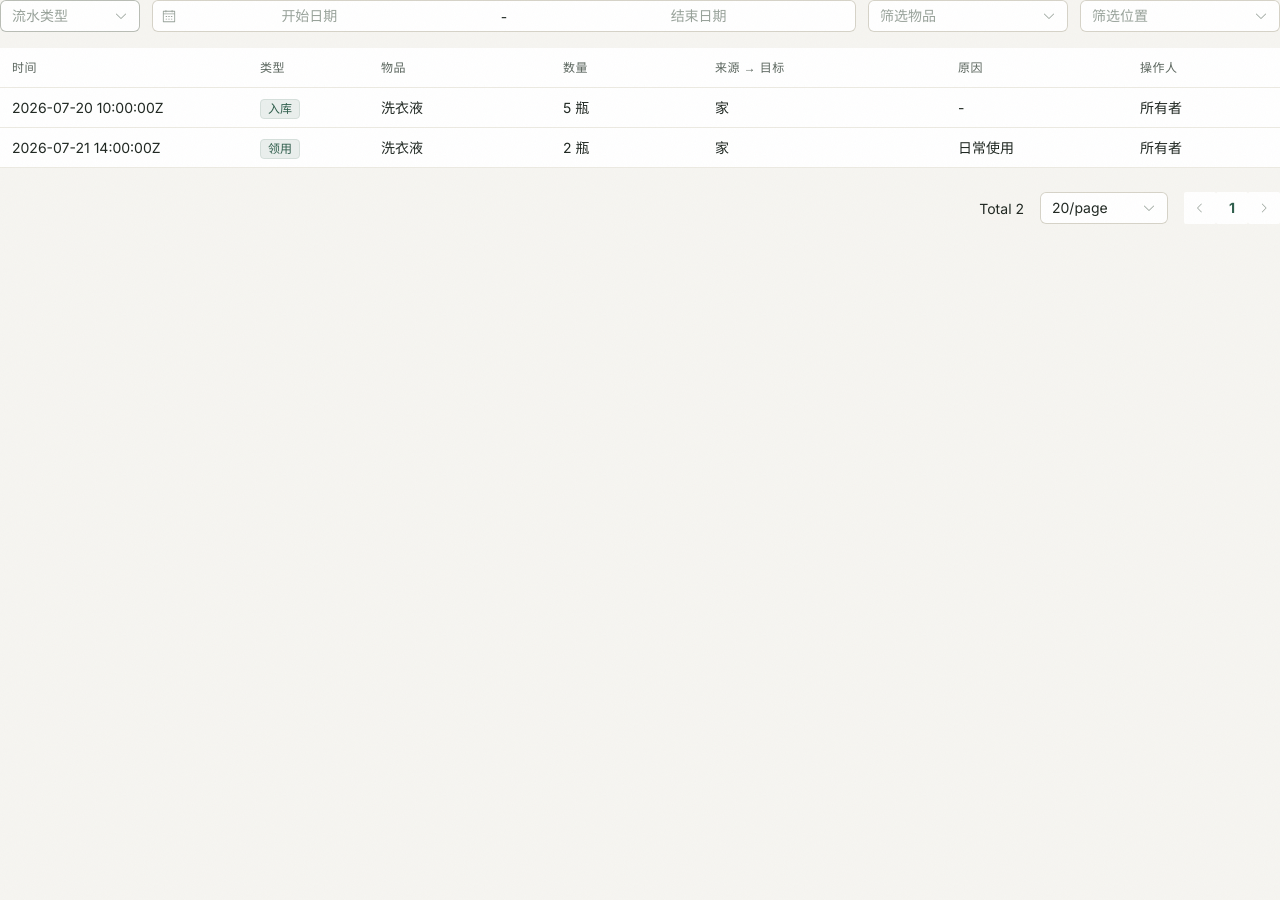
MovementsTab › opens MovementDetailDrawer when row is clicked
Step 1. Click the row "2026-07-20 10:00:00Z 入库 洗衣液 5 瓶 家 - 所有者" → click(640, 108), box 0,88 -> 1279,128
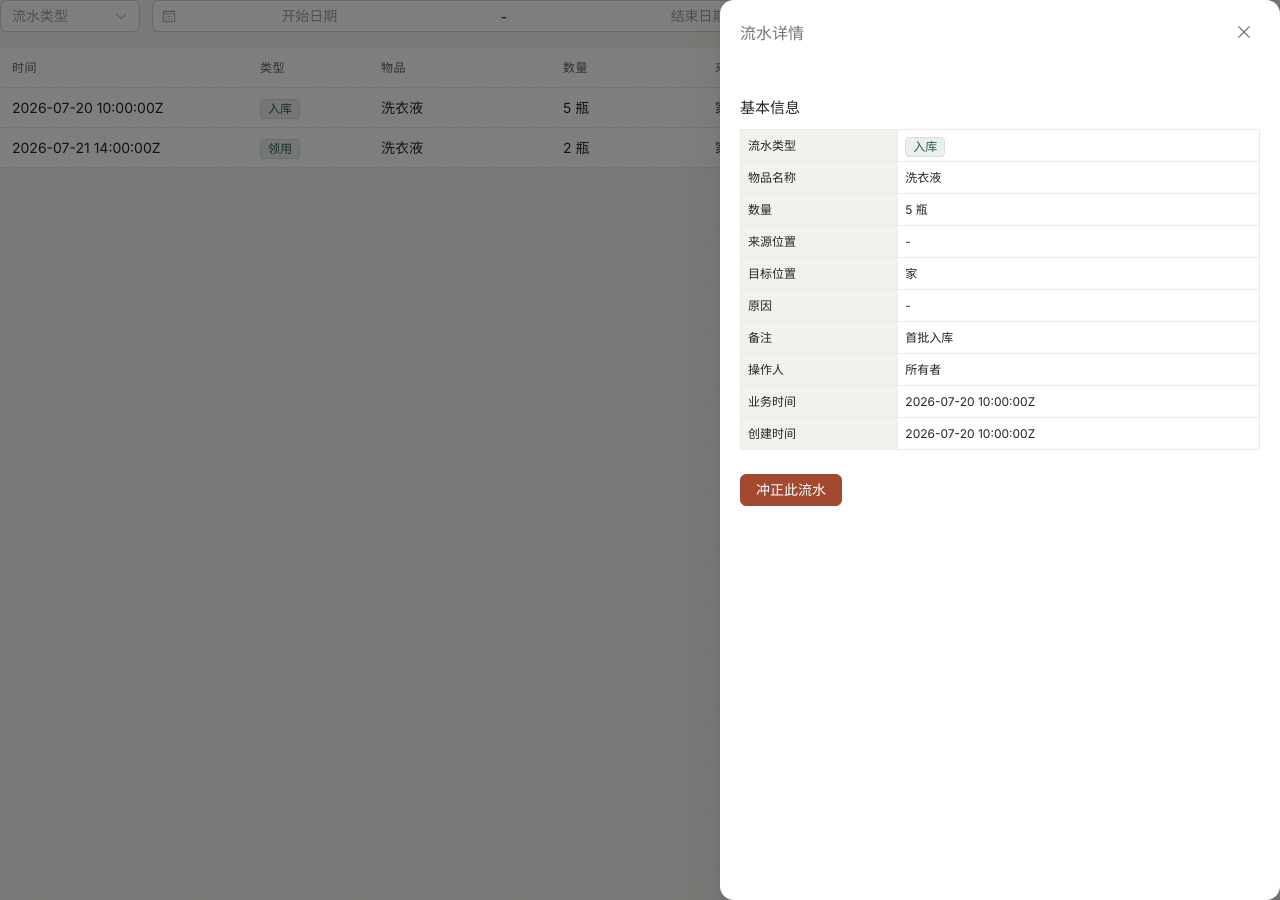
Expected: the text "流水详情" is shown, 740,23 -> 804,43
Expected: the text "首批入库" is shown, 898,322 -> 1260,354
